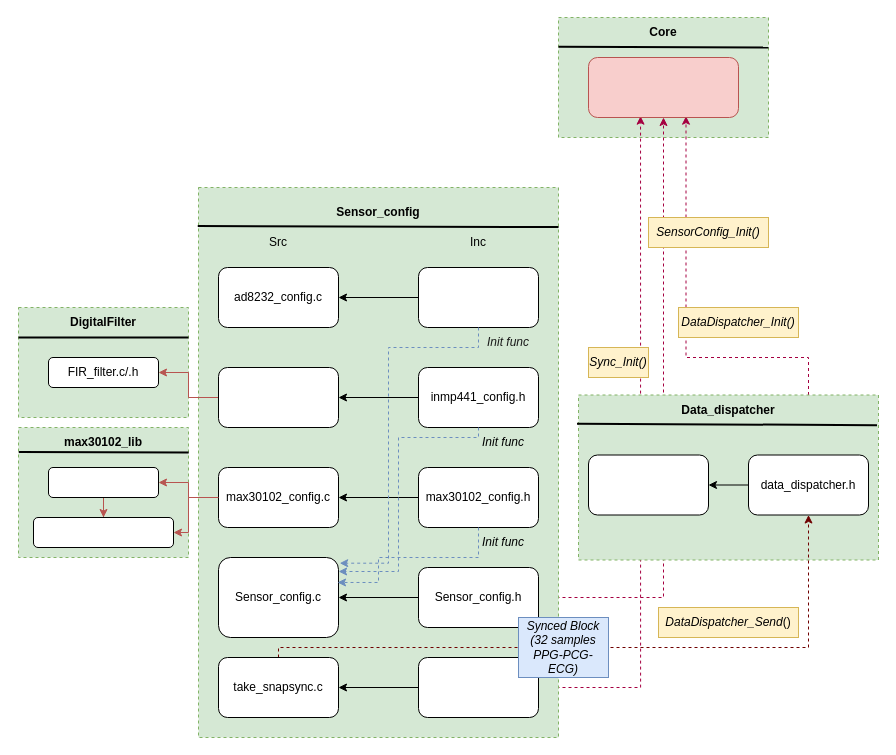
Image size: 896x755. Some labels were removed from this diagram. The shapes that lost their labels are listed below. From the top down, each one's centre as x and y in pixels, then its label:
pixel 663 87: main.c
pixel 478 297: ad8232_config.h
pixel 278 397: inmp441_config.c
pixel 103 482: max30102_lib.c/.h
pixel 648 484: data_dispatcher.c
pixel 103 532: max30102_low_level.c/.h
pixel 478 687: take_snapsync.h
